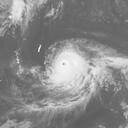cyclone: (37, 37, 107, 102)
